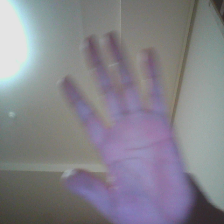hand: (46, 32, 197, 223)
